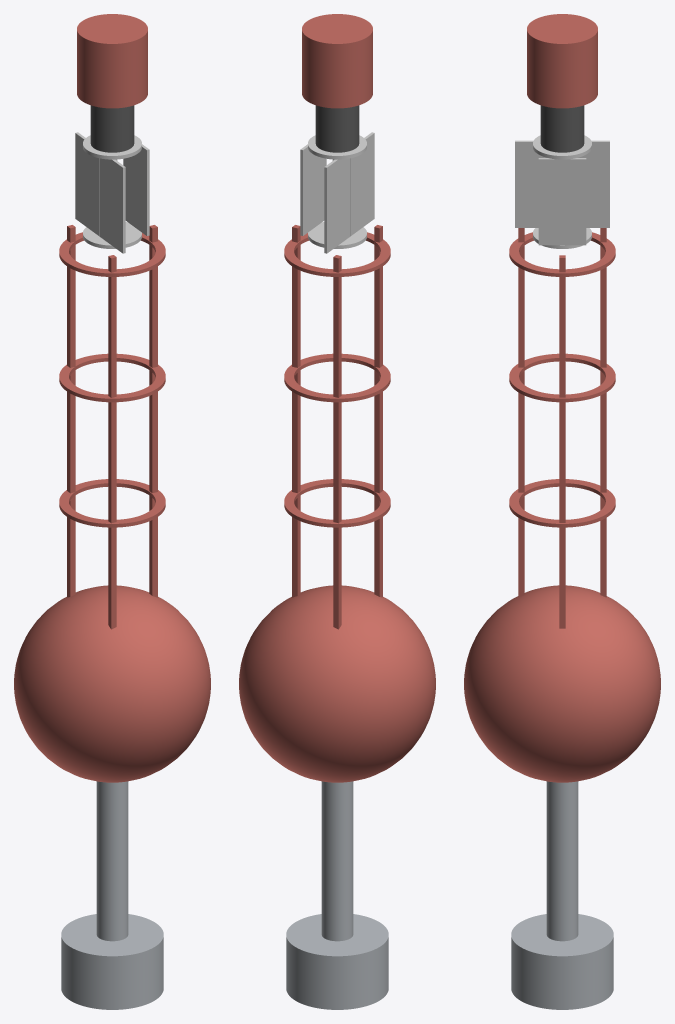
File: step_05.glb
3 views of the same model, side by side, from view 1: azimuth 30°, elevation 25°; view 2: azimuth 150°, elevation 25°; view 3: azimuth 270°, elevation 25° (orthographic).
Parts seen in each view (by area): view 1: part__steel spherical float, part__lattice tower, part__tail and ballast, part__vertical axis wind turbine, part__topmark (can), part__lantern; view 2: part__steel spherical float, part__lattice tower, part__tail and ballast, part__vertical axis wind turbine, part__topmark (can), part__lantern; view 3: part__steel spherical float, part__tail and ballast, part__lattice tower, part__vertical axis wind turbine, part__topmark (can), part__lantern.
Boxes of the visible parts, bbox=[...] form: part__steel spherical float: bbox=[14, 585, 210, 782]; part__lattice tower: bbox=[59, 225, 165, 629]; part__tail and ballast: bbox=[61, 781, 163, 1009]; part__vertical axis wind turbine: bbox=[75, 132, 149, 253]; part__topmark (can): bbox=[77, 14, 147, 108]; part__lantern: bbox=[90, 105, 134, 152]; part__steel spherical float: bbox=[239, 585, 435, 782]; part__lattice tower: bbox=[284, 225, 390, 629]; part__tail and ballast: bbox=[286, 781, 388, 1009]; part__vertical axis wind turbine: bbox=[300, 132, 374, 253]; part__topmark (can): bbox=[302, 14, 372, 108]; part__lantern: bbox=[315, 105, 359, 152]; part__steel spherical float: bbox=[464, 585, 660, 782]; part__tail and ballast: bbox=[511, 781, 613, 1009]; part__lattice tower: bbox=[509, 228, 615, 628]; part__vertical axis wind turbine: bbox=[515, 135, 609, 248]; part__topmark (can): bbox=[527, 14, 597, 108]; part__lantern: bbox=[540, 105, 584, 152].
Bounding box in the file's own units: 499 × 2680 × 499.
